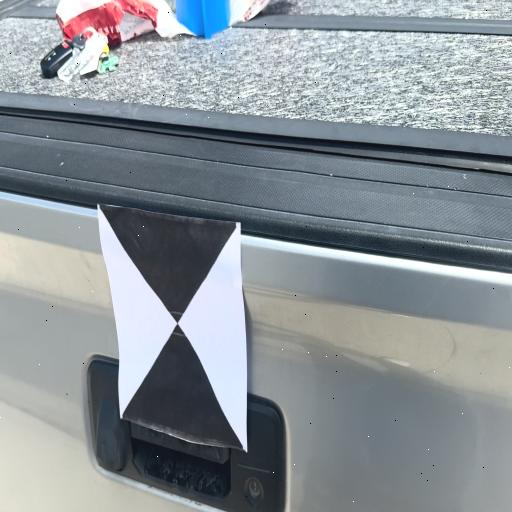target: (101, 206, 247, 451)
